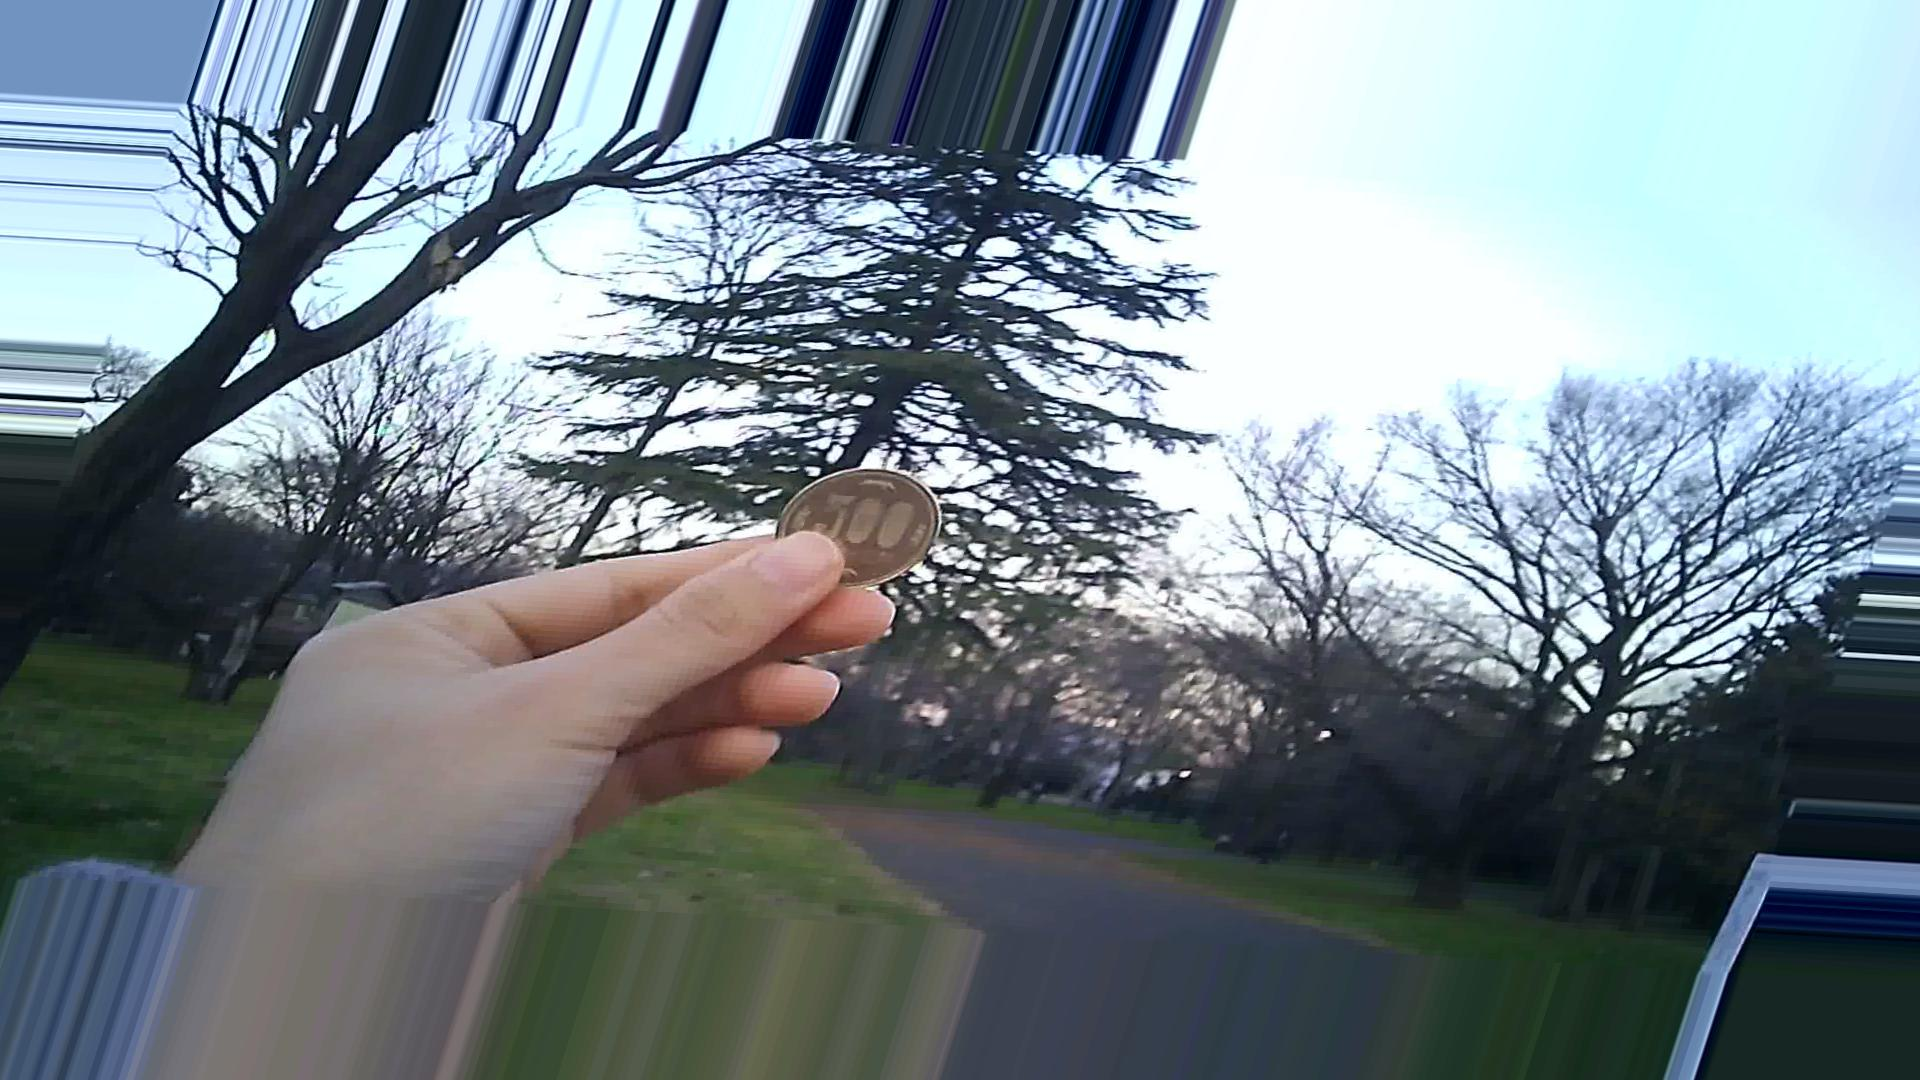500 Yen: (767, 454, 940, 584)
